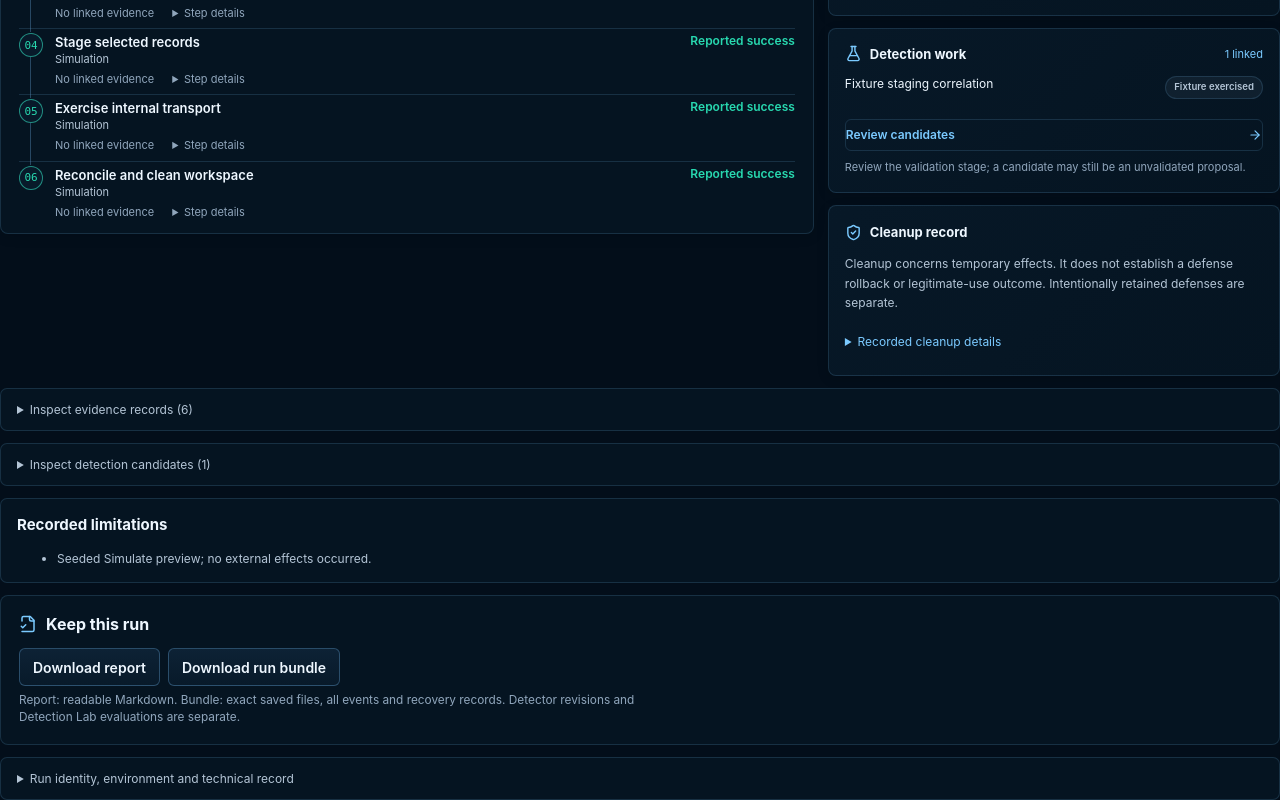
Test case: shows the retained authorized scope with legacy fallback: {"authorized_target_scope":null,"policy":{}}
(page scrolled)
What coordinates should you click on to do the following:
click the heading "Run identity, environment and technical record"
I would click on:
 (162, 778)
Its box is [30,771,294,786].
(page scrolled)
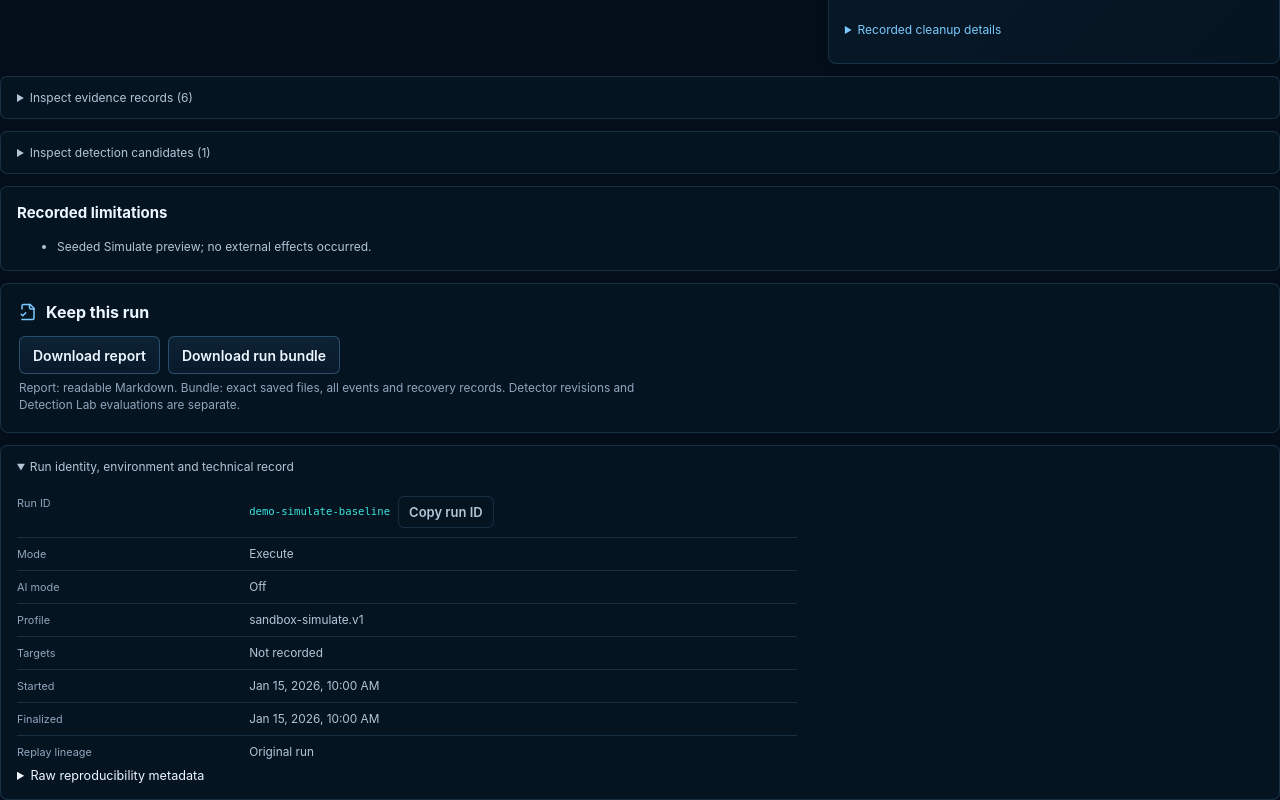
Expected: the text "Not recorded" is shown, [249,646,323,660]
